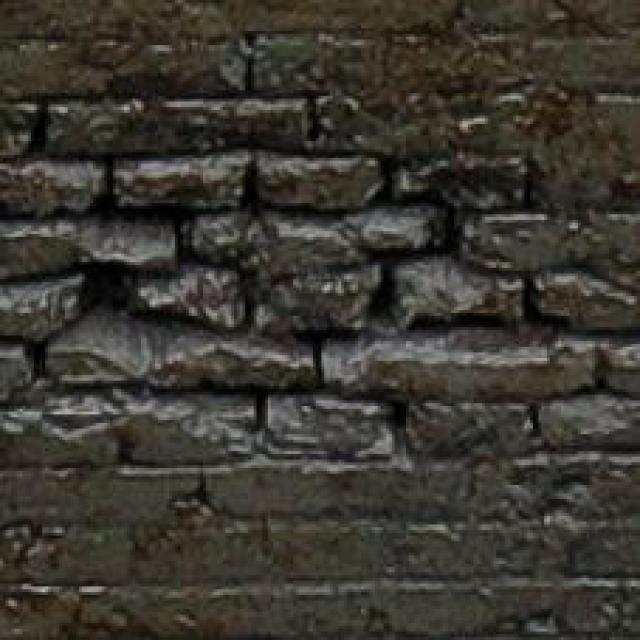Crack: (0, 79, 640, 482)
